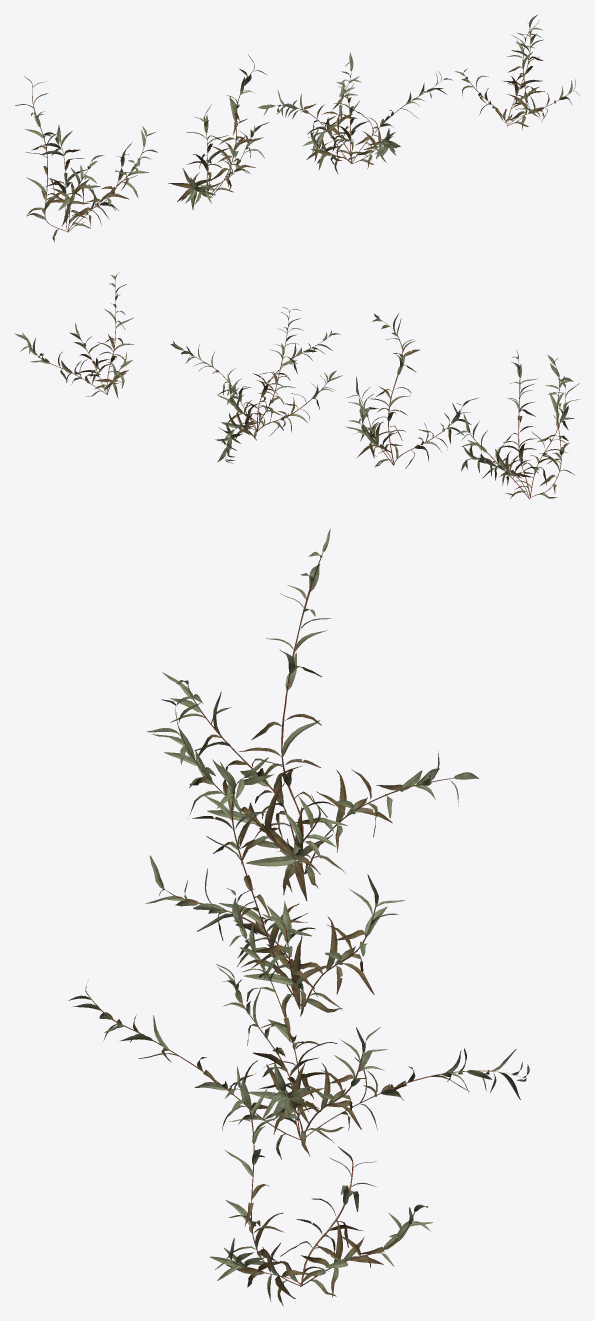
Rendered from shrub_02.glb.
3 views of the same model, one above another, from view 1: azimuth 30°, elevation 25°; view 2: azimuth 150°, elevation 25°; view 3: azimuth 270°, elevation 25° (orthographic). The views are drawn at different scales.
Visible parts, largest first — view 1: shrub_02_a, shrub_02_c, shrub_02_b, shrub_02_d; view 2: shrub_02_a, shrub_02_c, shrub_02_b, shrub_02_d; view 3: shrub_02_a, shrub_02_c, shrub_02_b, shrub_02_d.
Part boxes in pixels (x1,y1,x2,y2): shrub_02_a: (15, 76, 157, 242); shrub_02_c: (257, 52, 452, 174); shrub_02_b: (168, 54, 268, 209); shrub_02_d: (455, 14, 580, 129); shrub_02_a: (455, 350, 579, 499); shrub_02_c: (170, 307, 342, 463); shrub_02_b: (345, 313, 478, 468); shrub_02_d: (14, 272, 134, 398); shrub_02_a: (146, 528, 478, 900); shrub_02_c: (68, 888, 529, 1159); shrub_02_b: (145, 757, 404, 1018); shrub_02_d: (210, 1066, 432, 1305).
Bounding box in the file's own units: 6.05 × 1.7 × 2.29.
Materials: 1 (1 with a texture image).
